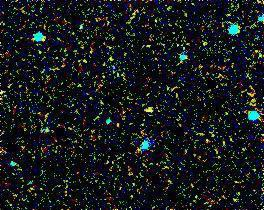star: (139, 90, 169, 120)
